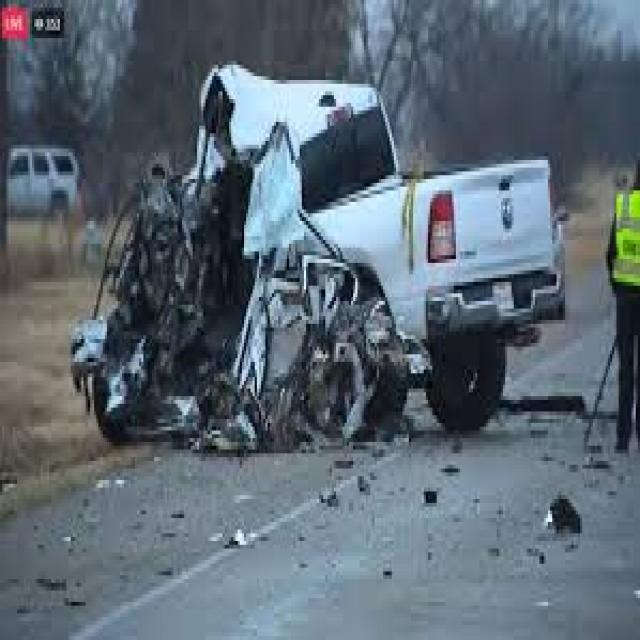accident: (73, 80, 562, 483)
